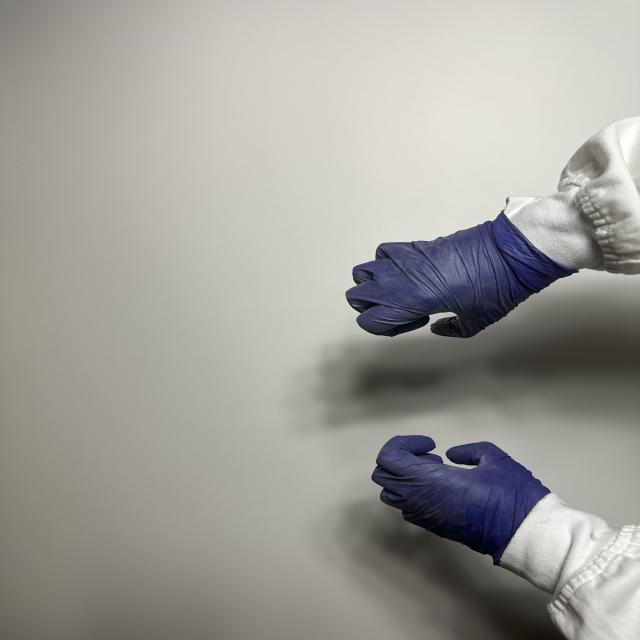gloves_contaminated: (346, 214, 575, 338), (372, 436, 550, 564)
